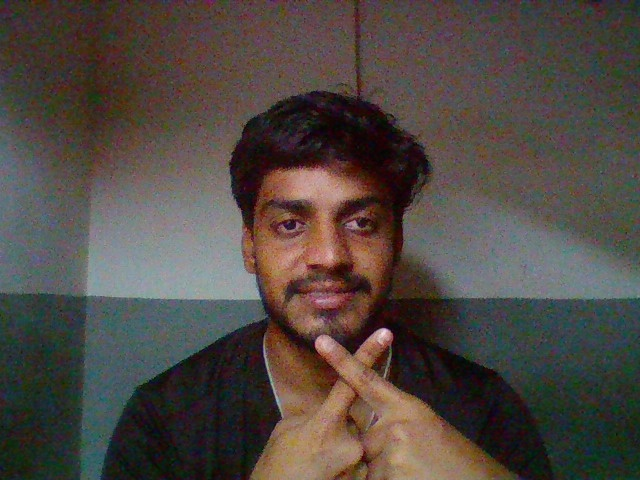X: (253, 317, 503, 480)
